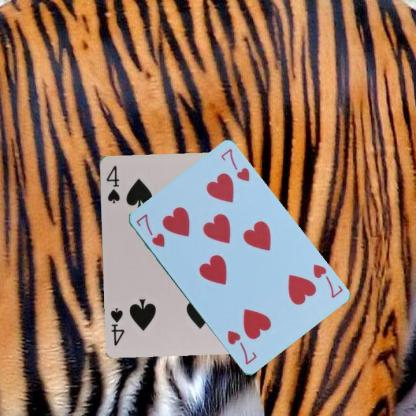4s: (103, 162, 121, 204)
7h: (310, 261, 344, 299), (133, 211, 166, 248)
